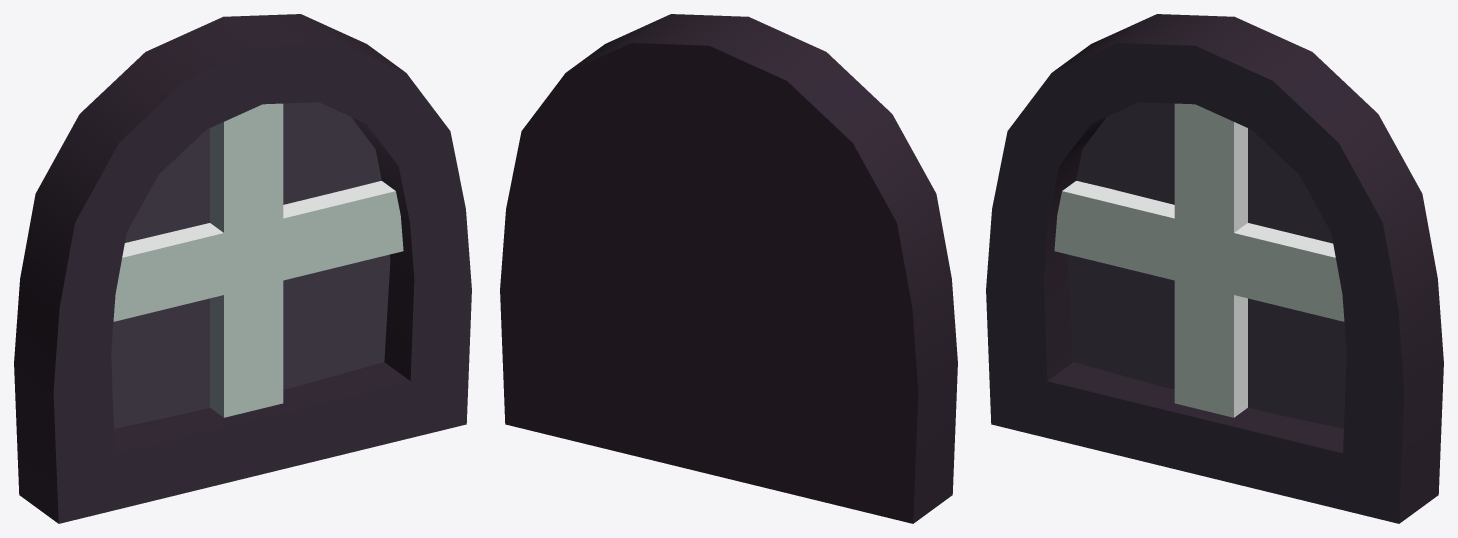
Rendered from SmallWindow01_Black_White.glb.
The picture shows the model from 3 angles, left to right: view 1: azimuth 30°, elevation 25°; view 2: azimuth 150°, elevation 25°; view 3: azimuth 330°, elevation 25°; orthographic projection.
Parts seen in each view (by area): view 1: SmallWindow01_Black_White; view 2: SmallWindow01_Black_White; view 3: SmallWindow01_Black_White.
Boxes of the visible parts, x1=… form: SmallWindow01_Black_White: x1=14, y1=14, x2=471, y2=523; SmallWindow01_Black_White: x1=500, y1=14, x2=957, y2=523; SmallWindow01_Black_White: x1=986, y1=14, x2=1443, y2=523.
Size of the model in its own units: 0.5801 by 0.5676 by 0.0949.
Materials: 1 (1 with a texture image).
